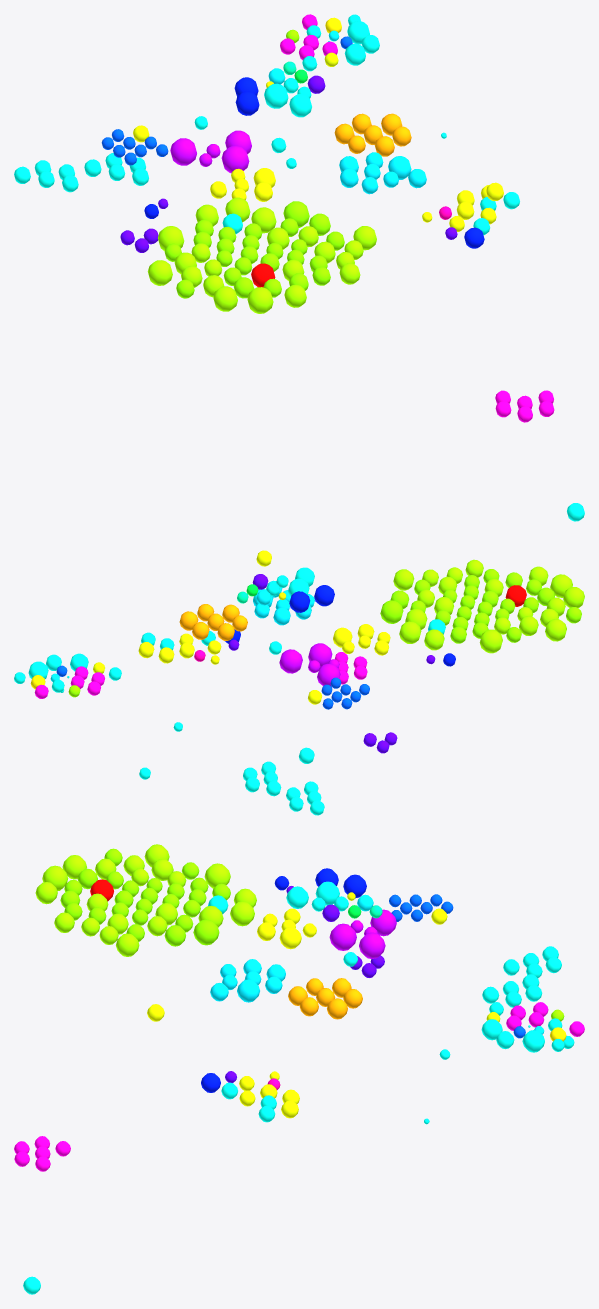
File: task-27cc08a7e-layout.gltf
3 views of the same model, one above another, from view 1: azimuth 30°, elevation 25°; view 2: azimuth 150°, elevation 25°; view 3: azimuth 270°, elevation 25° (orthographic). The views are drawn at different scales.
Visible parts, largest first — view 1: normal_c_files, normal_no_ext_files, normal_h_files, normal_sh_files, normal_asciidoc_files, normal_m4_files, normal_service_files, normal_acl_files, normal_md_files, normal_json_files, normal_yml_files; view 2: normal_c_files, normal_h_files, normal_no_ext_files, normal_sh_files, normal_asciidoc_files, normal_acl_files, normal_service_files, normal_m4_files, normal_md_files, normal_json_files, normal_yml_files; view 3: normal_c_files, normal_no_ext_files, normal_h_files, normal_sh_files, normal_asciidoc_files, normal_service_files, normal_m4_files, normal_acl_files, normal_md_files, normal_json_files, normal_yml_files.
Boxes of the visible parts, x1=… form: normal_c_files: x1=147, y1=197, x2=376, y2=313; normal_no_ext_files: x1=14, y1=14, x2=584, y2=521; normal_h_files: x1=164, y1=201, x2=344, y2=298; normal_sh_files: x1=133, y1=81, x2=503, y2=231; normal_asciidoc_files: x1=334, y1=113, x2=411, y2=156; normal_m4_files: x1=339, y1=152, x2=426, y2=194; normal_service_files: x1=280, y1=14, x2=554, y2=422; normal_acl_files: x1=170, y1=130, x2=251, y2=173; normal_md_files: x1=144, y1=77, x2=484, y2=248; normal_json_files: x1=101, y1=36, x2=352, y2=165; normal_yml_files: x1=120, y1=75, x2=457, y2=252; normal_c_files: x1=393, y1=559, x2=584, y2=653; normal_h_files: x1=380, y1=569, x2=581, y2=643; normal_no_ext_files: x1=14, y1=567, x2=445, y2=815; normal_sh_files: x1=138, y1=550, x2=390, y2=704; normal_asciidoc_files: x1=179, y1=604, x2=247, y2=640; normal_acl_files: x1=279, y1=643, x2=340, y2=686; normal_service_files: x1=34, y1=652, x2=367, y2=698; normal_m4_files: x1=253, y1=580, x2=314, y2=625; normal_md_files: x1=225, y1=585, x2=455, y2=666; normal_json_files: x1=56, y1=665, x2=369, y2=709; normal_yml_files: x1=228, y1=574, x2=435, y2=753; normal_c_files: x1=35, y1=844, x2=256, y2=956; normal_no_ext_files: x1=23, y1=881, x2=574, y2=1294; normal_h_files: x1=60, y1=848, x2=230, y2=946; normal_sh_files: x1=147, y1=892, x2=447, y2=1118; normal_asciidoc_files: x1=288, y1=978, x2=362, y2=1019; normal_service_files: x1=14, y1=1002, x2=584, y2=1171; normal_m4_files: x1=210, y1=959, x2=285, y2=1002; normal_acl_files: x1=329, y1=909, x2=396, y2=958; normal_md_files: x1=201, y1=868, x2=366, y2=1092; normal_json_files: x1=389, y1=894, x2=525, y2=1038; normal_yml_files: x1=225, y1=886, x2=384, y2=1082.
Bounding box in the file's own units: 59.63 × 46.61 × 70.25.
